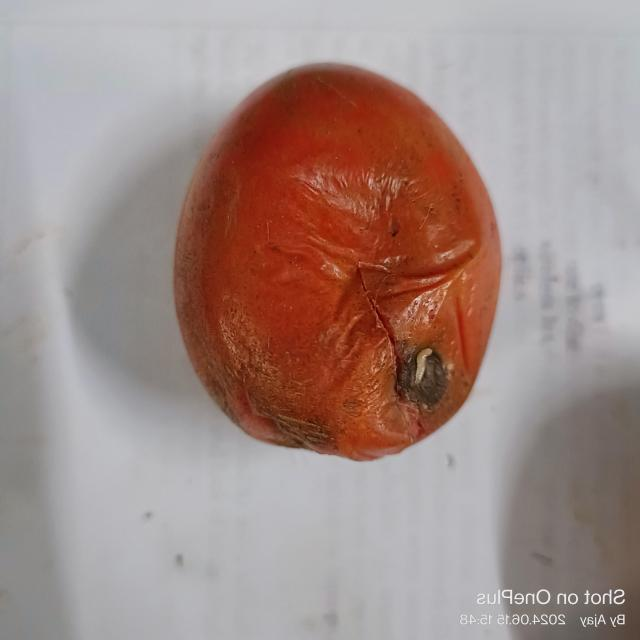Botrytis: (400, 346, 450, 408)
